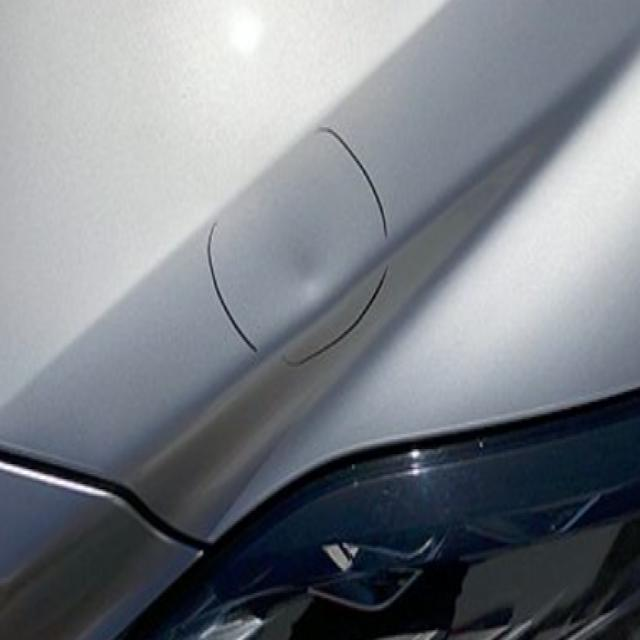dents: (287, 240, 341, 322)
